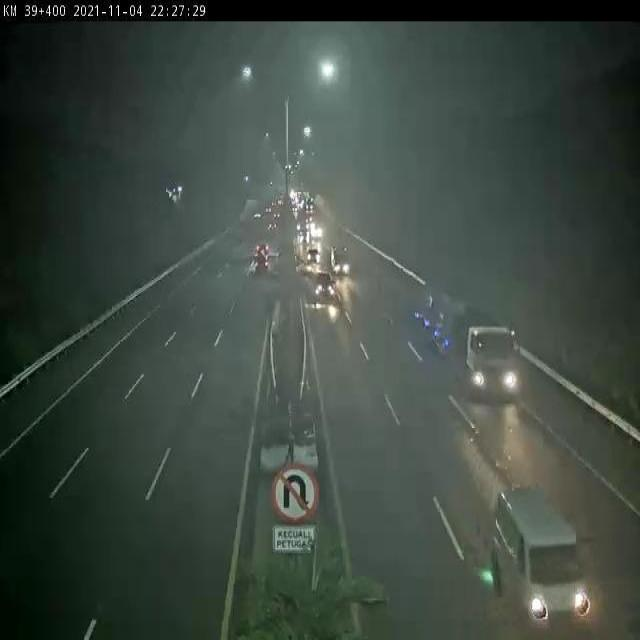ARABA: (491, 489, 591, 627), (313, 271, 334, 297), (254, 256, 271, 275)
KAMYONET: (330, 244, 350, 276)
TIR: (410, 283, 515, 396)
